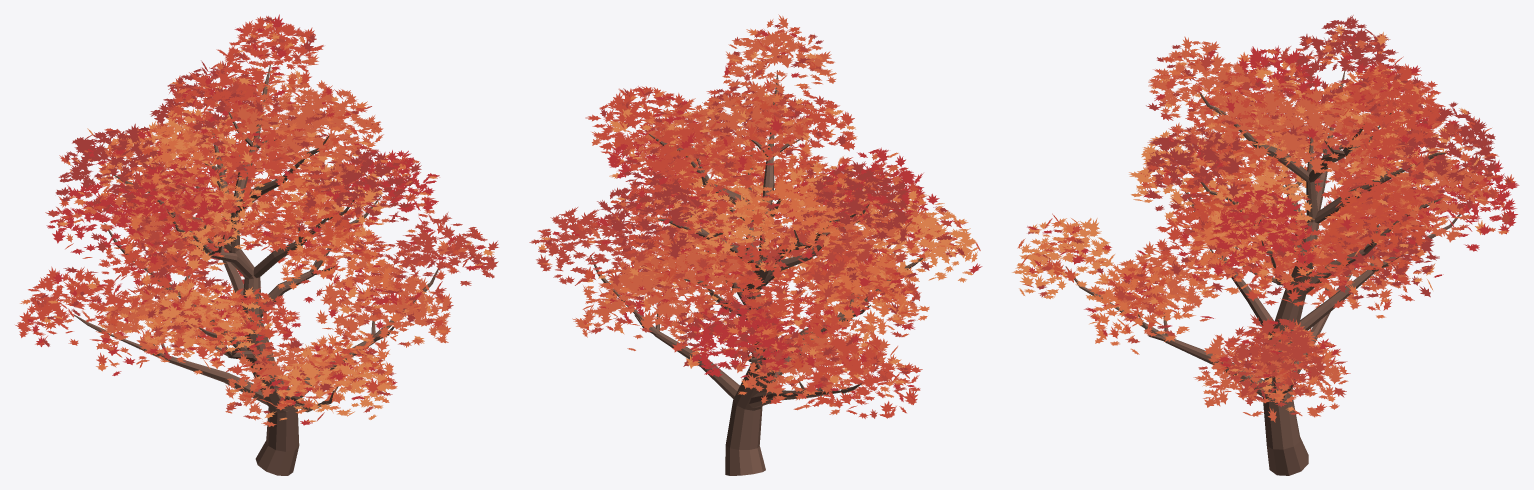
File: quayside_maple.gltf
3 renders of one model, left to right at view 1: azimuth 30°, elevation 25°; view 2: azimuth 150°, elevation 25°; view 3: azimuth 270°, elevation 25°, orthographic. The views are drawn at different scales.
Parts seen in each view (by area): view 1: quayside_maple; view 2: quayside_maple; view 3: quayside_maple.
Boxes of the visible parts, x1,y1,x2,y2 form: quayside_maple: (15,14,498,475); quayside_maple: (529,14,982,475); quayside_maple: (1012,15,1519,475).
Size of the model in its own units: 8.94 by 8.34 by 8.93.
